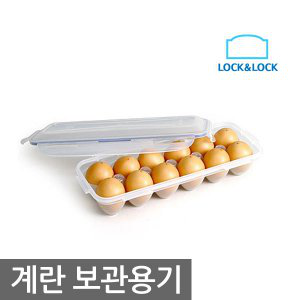egg: (88, 128, 251, 196)
